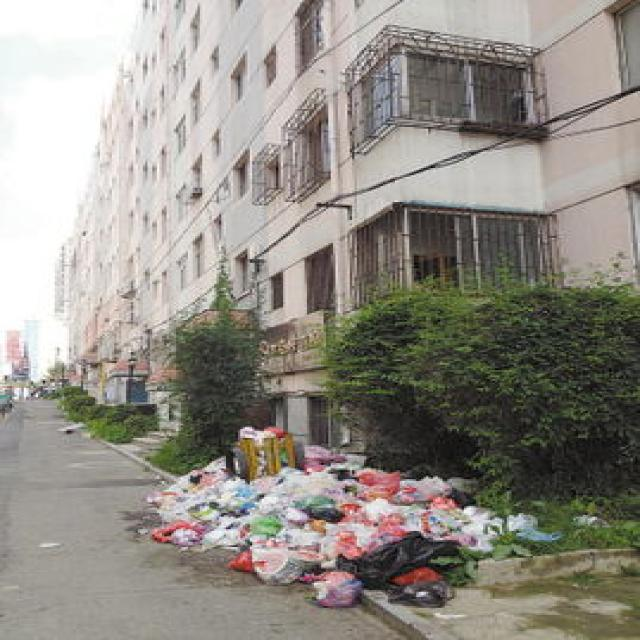garbage: (150, 426, 561, 606)
